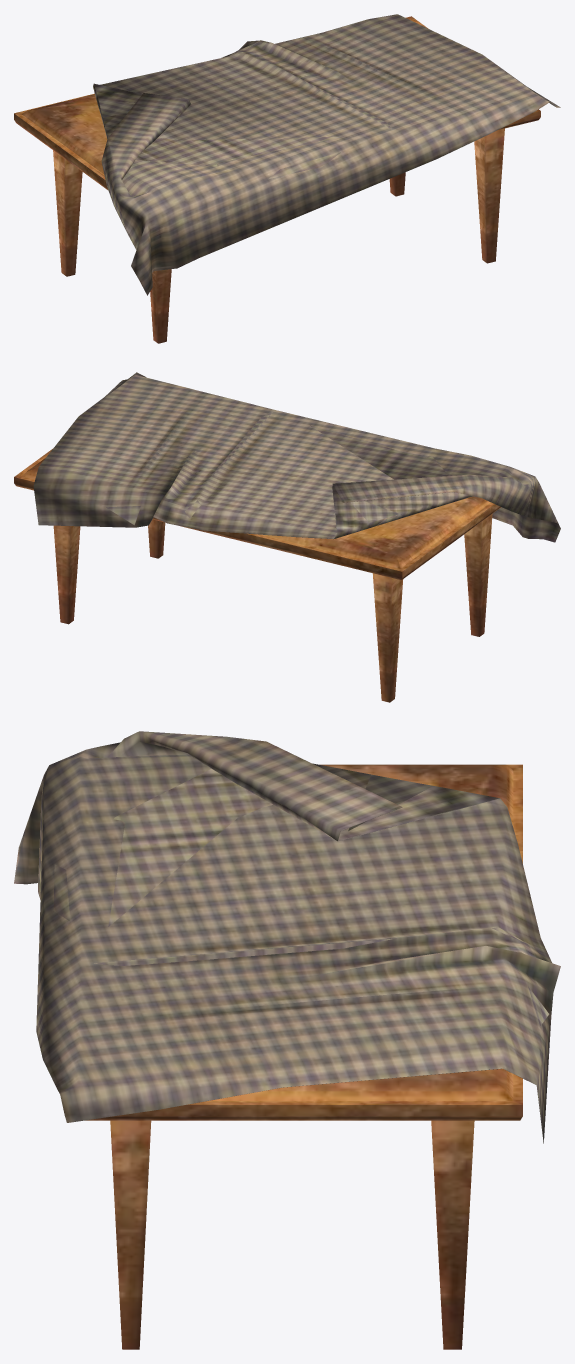
The model's file is ph_dining_table.glb.
3 renders of one model, top to bottom at view 1: azimuth 30°, elevation 25°; view 2: azimuth 150°, elevation 25°; view 3: azimuth 270°, elevation 25°, orthographic. The views are drawn at different scales.
Visible parts, largest first — view 1: dining_table; view 2: dining_table; view 3: dining_table.
Boxes of the visible parts, x1=… form: dining_table: x1=14, y1=14, x2=560, y2=343; dining_table: x1=14, y1=372, x2=560, y2=702; dining_table: x1=14, y1=731, x2=560, y2=1349.
Size of the model in its own units: 2.26 by 0.877 by 1.39.
Materials: 1 (1 with a texture image).
